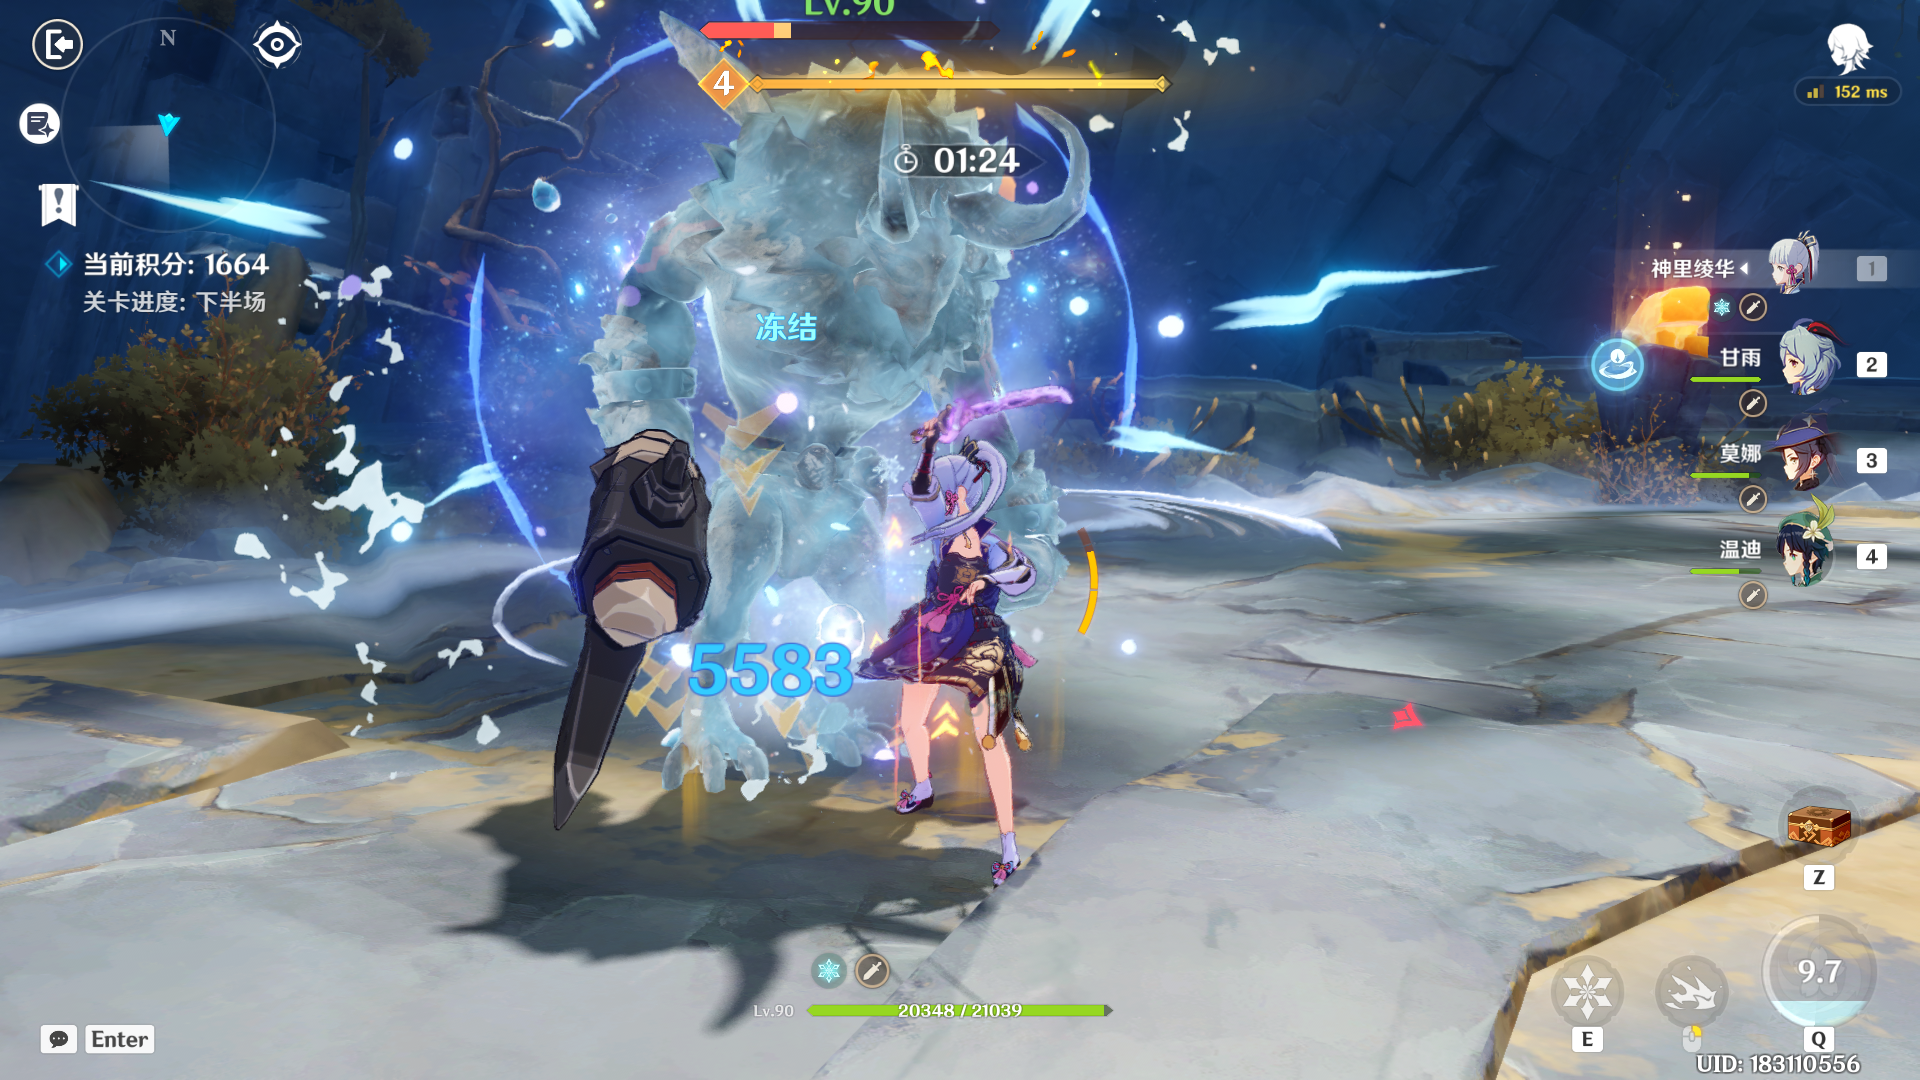character: (836, 423, 1101, 920)
